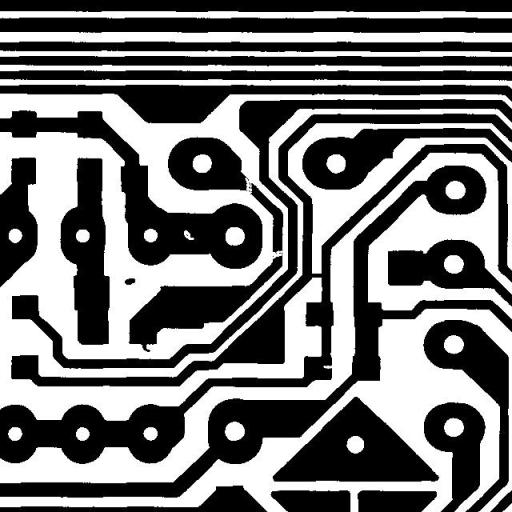copper: (117, 270, 142, 292)
mousebite: (315, 358, 341, 376)
open: (258, 242, 290, 268), (237, 170, 259, 204)
pin-hole: (176, 222, 202, 248)
short: (304, 266, 330, 284)
spur: (134, 330, 158, 359)
